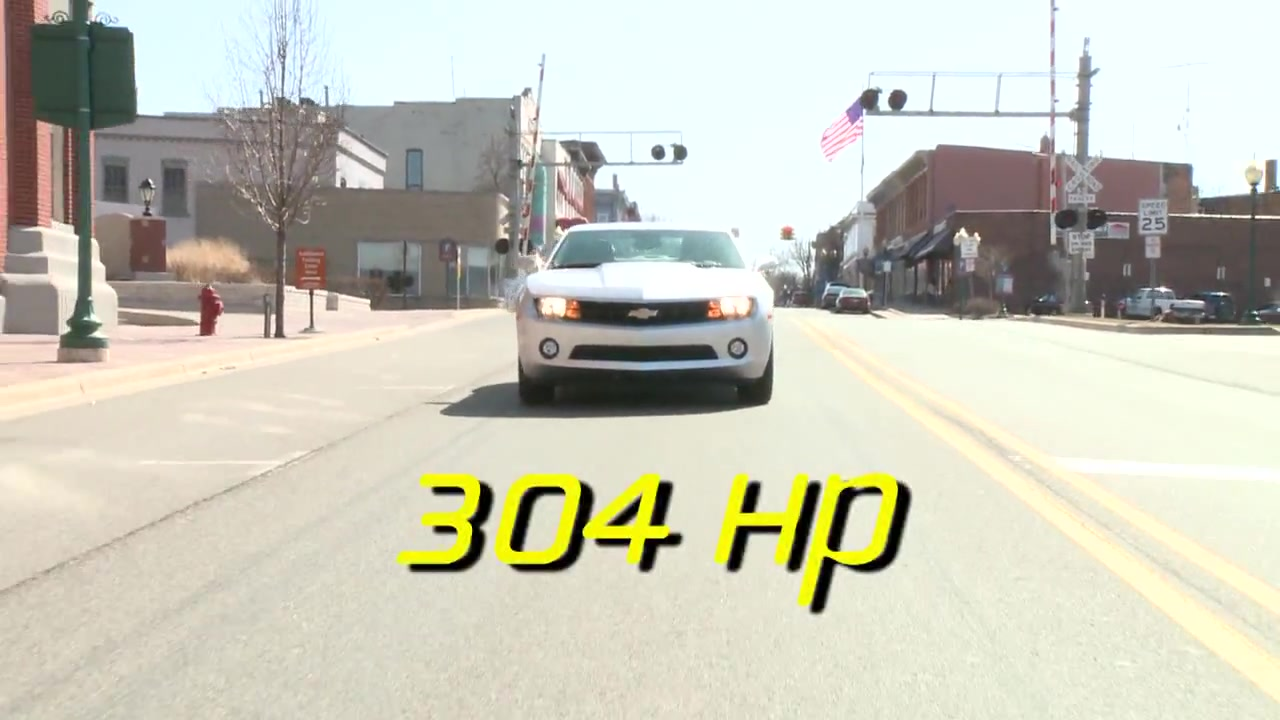car: (509, 222, 783, 409)
